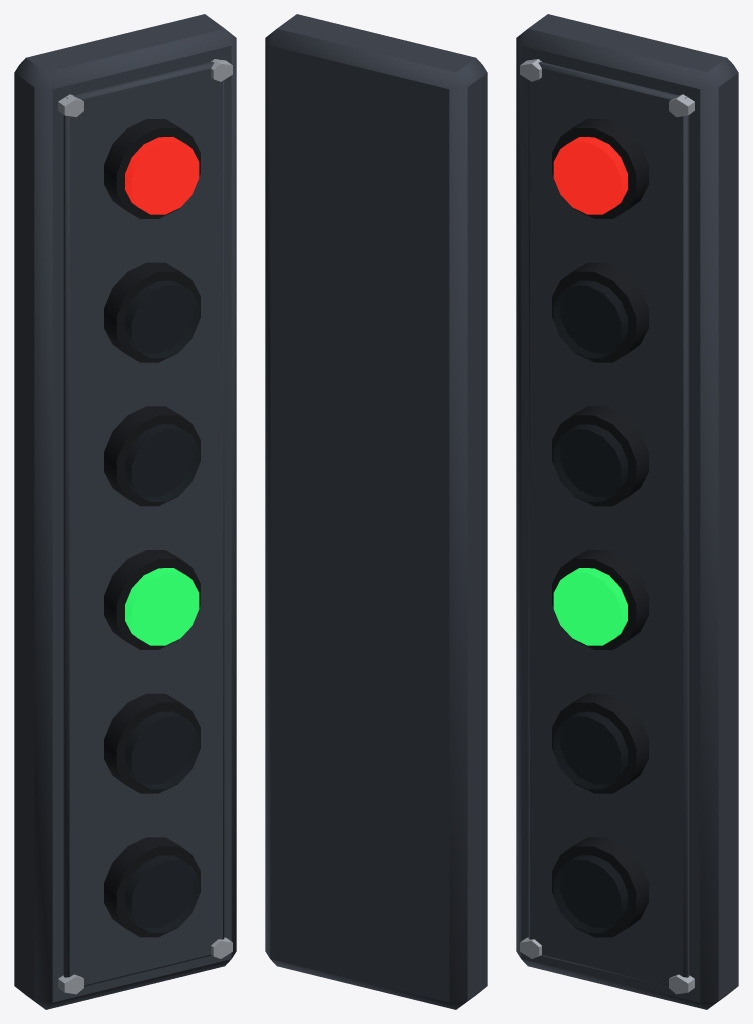
The model's file is controlpanel_status_light_strip.glb.
3 views of the same model, side by side, from view 1: azimuth 30°, elevation 25°; view 2: azimuth 150°, elevation 25°; view 3: azimuth 330°, elevation 25° (orthographic).
Visible parts, largest first — view 1: controlpanel_status_light_strip; view 2: controlpanel_status_light_strip; view 3: controlpanel_status_light_strip.
Part boxes in pixels (x1,y1,x2,y2): controlpanel_status_light_strip: (14,14,236,1009); controlpanel_status_light_strip: (265,14,487,1009); controlpanel_status_light_strip: (516,14,738,1009).
Size of the model in its own units: 0.14 by 0.62 by 0.068.
